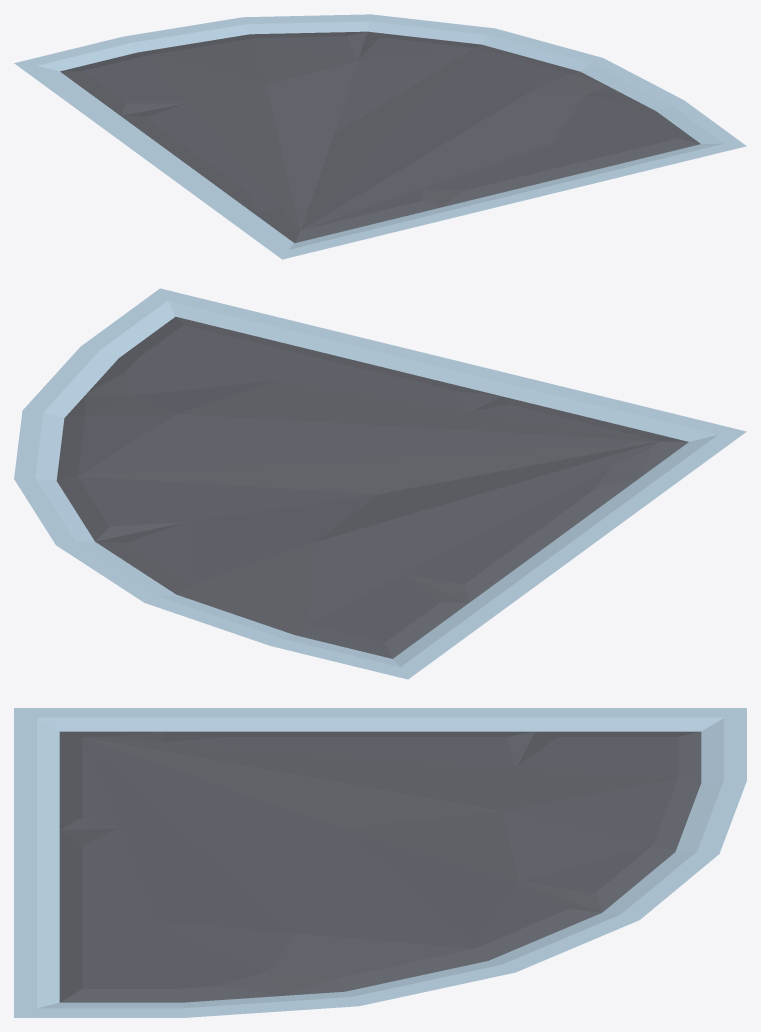
File: Floor_Large_Curved_Out.fbx
3 views of the same model, one above another, from view 1: azimuth 30°, elevation 25°; view 2: azimuth 150°, elevation 25°; view 3: azimuth 270°, elevation 25° (orthographic). The views are drawn at different scales.
Visible parts, largest first — view 1: Floor_Large_Curved_Out; view 2: Floor_Large_Curved_Out; view 3: Floor_Large_Curved_Out.
Part boxes in pixels (<box>): Floor_Large_Curved_Out: <box>14,14,746,259</box>; Floor_Large_Curved_Out: <box>14,288,746,679</box>; Floor_Large_Curved_Out: <box>14,708,746,1017</box>.
Bounding box in the file's own units: 16 × 0.2863 × 16.
